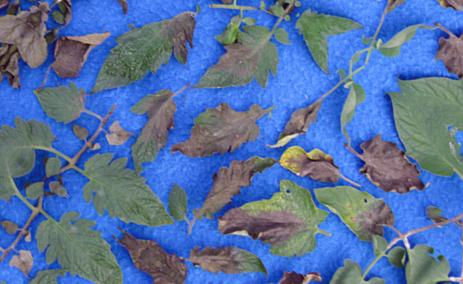Tomato leaf late blight: (208, 159, 345, 284), (82, 0, 214, 126), (65, 142, 199, 261), (191, 8, 300, 123), (171, 72, 280, 186), (182, 130, 285, 242), (107, 73, 206, 181), (307, 162, 407, 256), (180, 218, 283, 284), (270, 242, 412, 284), (276, 12, 347, 76)
